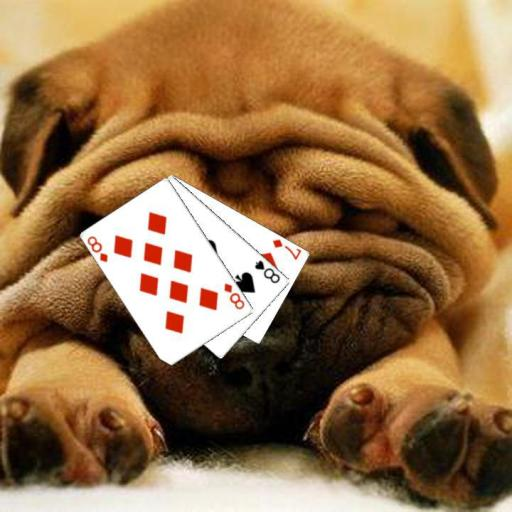7D: (270, 235, 302, 262)
8D: (84, 232, 109, 264), (221, 280, 246, 311)
8S: (252, 257, 282, 284)
